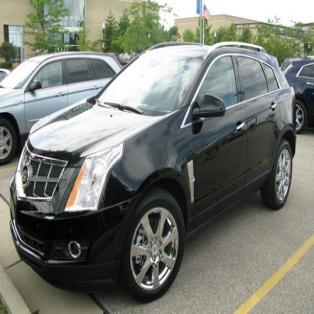Auto: (8, 40, 298, 304)
